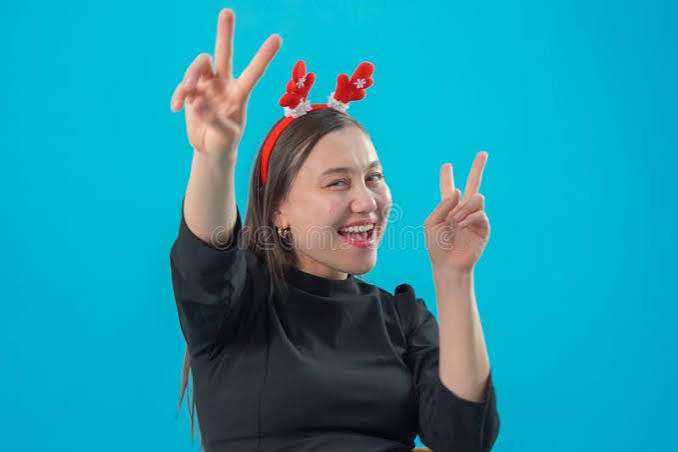peace_sign: (166, 26, 281, 160), (424, 147, 496, 282)
